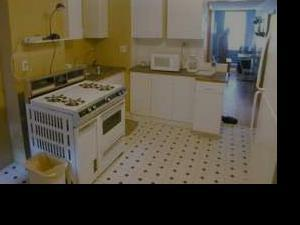Bote de Basura: (24, 147, 70, 182)
Electrodomestico: (247, 14, 276, 182), (67, 98, 123, 183)
